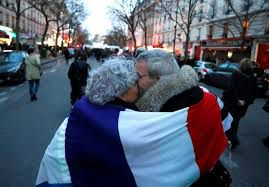French Flag: (40, 96, 235, 183)
